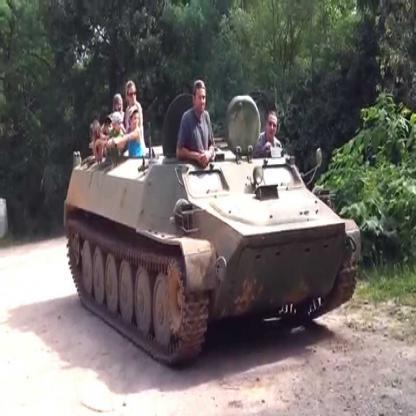MIL_IFV: (60, 80, 364, 368)
